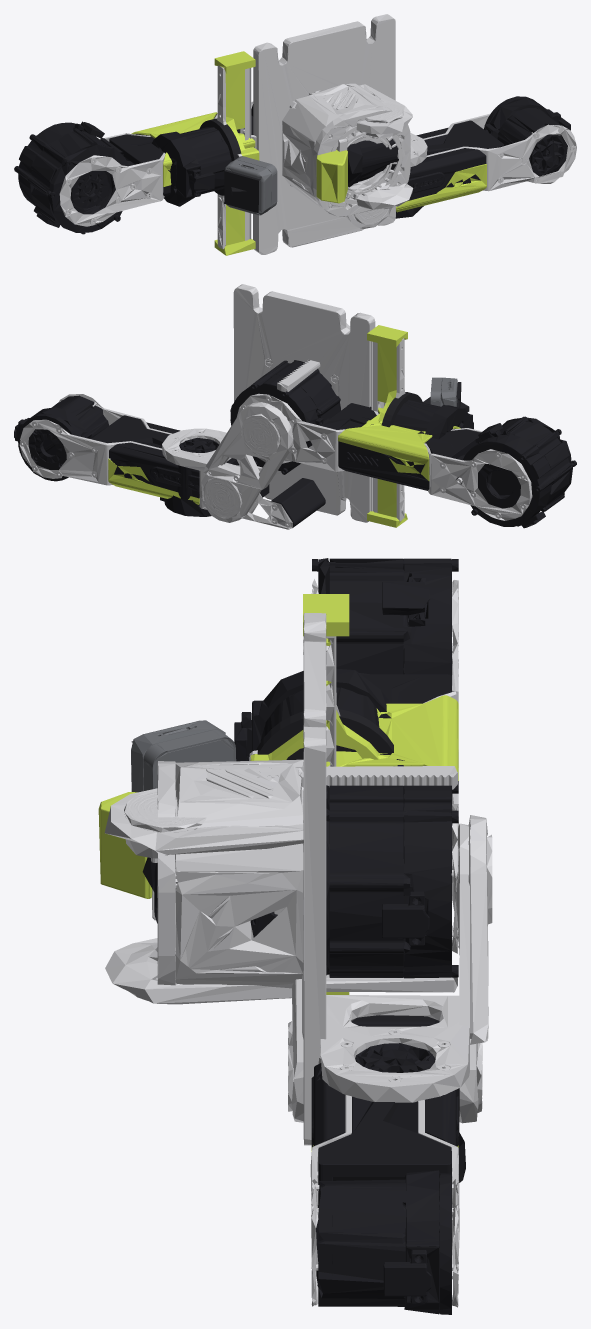
Rendered from arm.glb.
3 renders of one model, top to bottom at view 1: azimuth 30°, elevation 25°; view 2: azimuth 150°, elevation 25°; view 3: azimuth 270°, elevation 25°, orthographic. The views are drawn at different scales.
Visible parts, largest first — view 1: b1, b3, b4, b8, b6, b2, b5; view 2: b3, b4, b1, b5, b8, b9; view 3: b3, b1, b4, b5, b8, b2, b6, b9, b10.
Boxes of the visible parts, bbox=[...] form: b1: bbox=[253, 14, 410, 254]; b3: bbox=[14, 101, 256, 234]; b4: bbox=[346, 96, 576, 228]; b8: bbox=[151, 51, 277, 255]; b6: bbox=[316, 138, 398, 203]; b2: bbox=[289, 84, 413, 209]; b5: bbox=[395, 133, 427, 218]; b3: bbox=[230, 360, 576, 528]; b4: bbox=[14, 394, 325, 529]; b1: bbox=[233, 284, 385, 522]; b5: bbox=[160, 402, 293, 516]; b8: bbox=[366, 325, 473, 527]; b9: bbox=[277, 360, 320, 392]; b3: bbox=[311, 558, 458, 978]; b1: bbox=[157, 613, 326, 1145]; b4: bbox=[288, 823, 482, 1314]; b5: bbox=[302, 815, 492, 1182]; b8: bbox=[131, 594, 393, 994]; b2: bbox=[104, 760, 303, 1004]; b6: bbox=[98, 792, 277, 955]; b9: bbox=[256, 766, 457, 789]; b10: bbox=[326, 974, 457, 992].
Bounding box in the file's own units: 0.5487 × 0.2049 × 0.1753.
